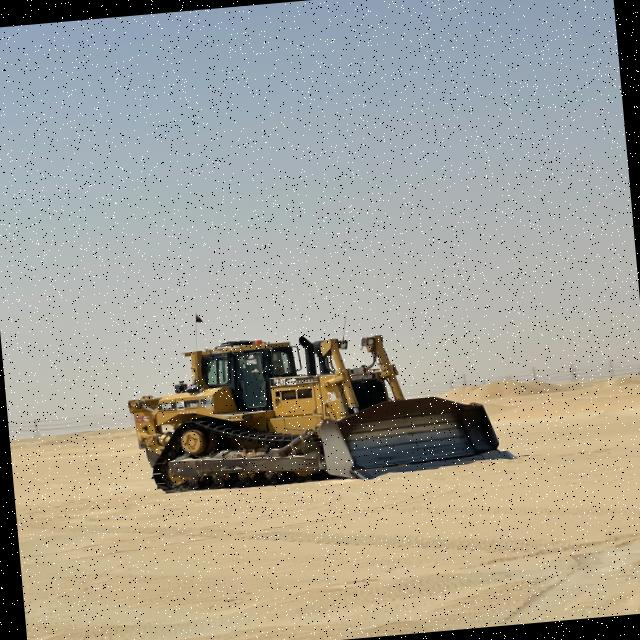Bulldozer: (120, 308, 502, 504)
